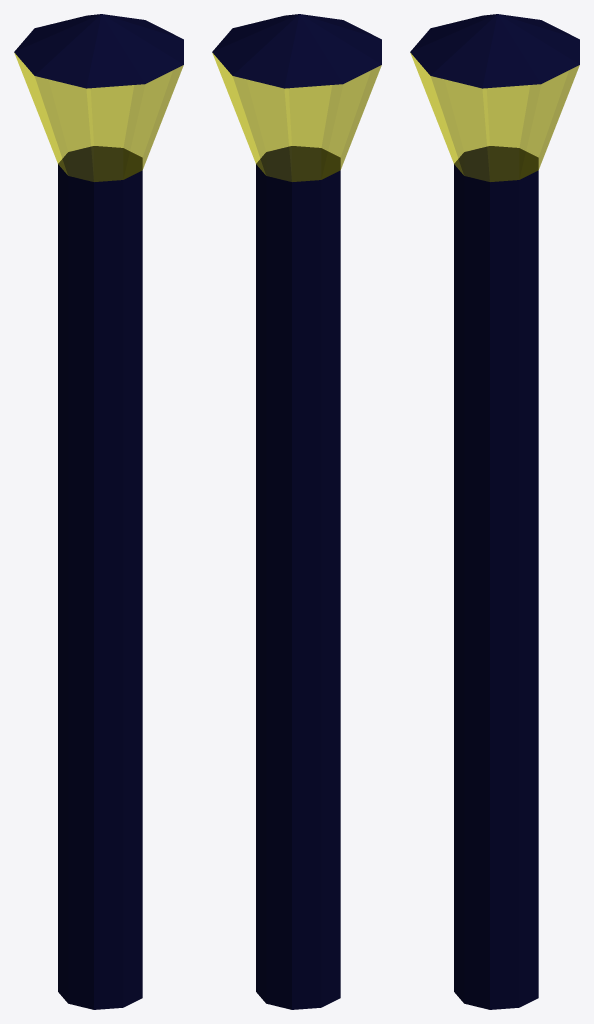
Rendered from lamp.gltf.
The picture shows the model from 3 angles, left to right: view 1: azimuth 30°, elevation 25°; view 2: azimuth 150°, elevation 25°; view 3: azimuth 270°, elevation 25°; orthographic projection.
Visible parts, largest first — view 1: Cylinder, light, top; view 2: Cylinder, light, top; view 3: Cylinder, light, top.
Part boxes in pixels (x1,y1,x2,y2): Cylinder: [58, 146, 142, 1009]; light: [14, 53, 183, 181]; top: [14, 14, 183, 88]; Cylinder: [256, 146, 340, 1009]; light: [212, 53, 381, 181]; top: [212, 14, 381, 88]; Cylinder: [454, 146, 538, 1009]; light: [410, 53, 579, 181]; top: [410, 14, 579, 88].
Size of the model in its own units: 0.1927 by 1.2 by 0.1897.
